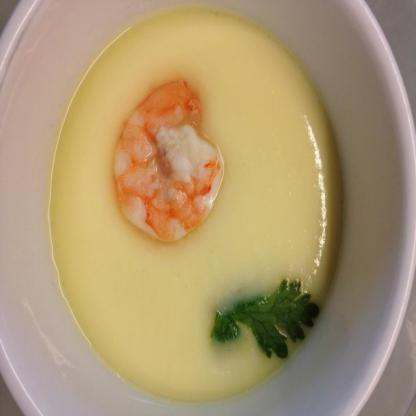Kaithoon: (51, 25, 338, 388)
